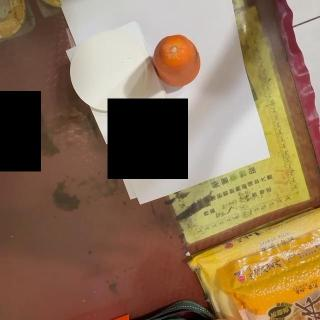carrot: (152, 34, 202, 86)
